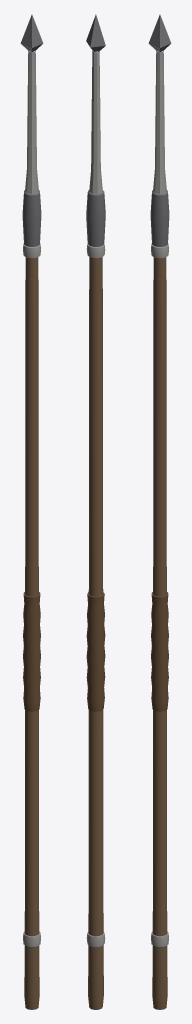
Rendered from barbed_pilum.glb.
3 views of the same model, side by side, from view 1: azimuth 90°, elevation 25°; view 2: azimuth 150°, elevation 25°; view 3: azimuth 270°, elevation 25° (orthographic).
Parts seen in each view (by area): view 1: barbed_pilum; view 2: barbed_pilum; view 3: barbed_pilum.
Part boxes in pixels (left/top/right/bottom): barbed_pilum: left=20, top=14, right=43, bottom=1009; barbed_pilum: left=86, top=14, right=105, bottom=1009; barbed_pilum: left=148, top=14, right=171, bottom=1009.
Bounding box in the file's own units: 0.036 × 1.73 × 0.036.
